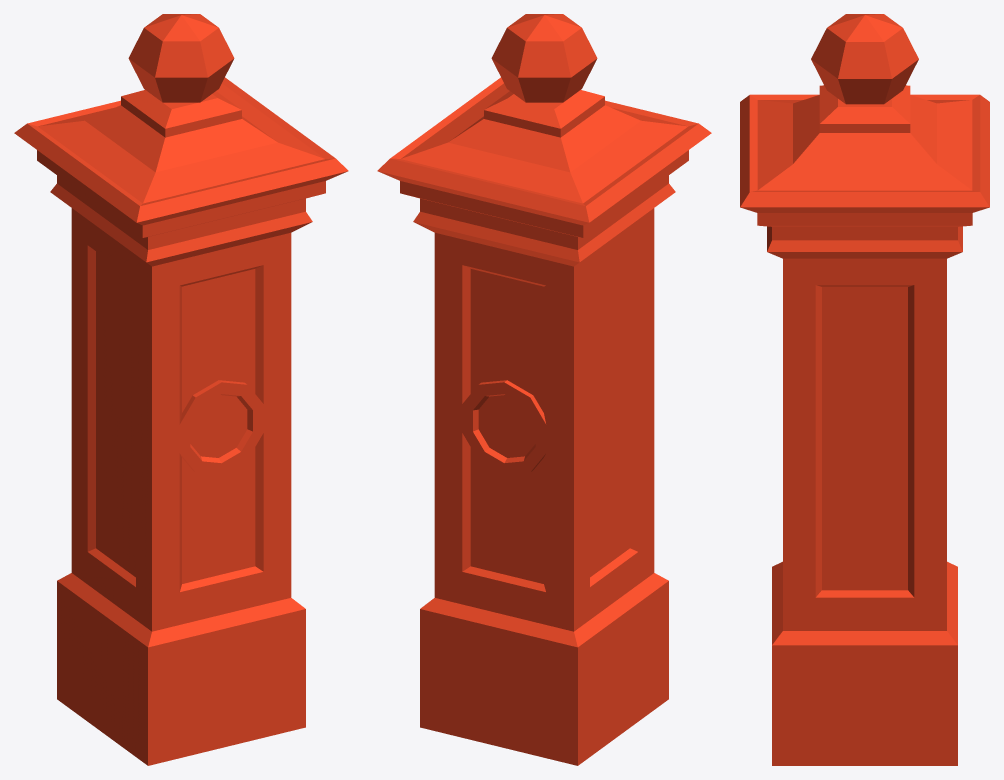
File: SM_Fence_Ornamental_Pillar_City.fbx
The picture shows the model from 3 angles, left to right: view 1: azimuth 30°, elevation 25°; view 2: azimuth 150°, elevation 25°; view 3: azimuth 270°, elevation 25°; orthographic projection.
Parts seen in each view (by area): view 1: SM_Fence_Ornamental_Pillar_City; view 2: SM_Fence_Ornamental_Pillar_City; view 3: SM_Fence_Ornamental_Pillar_City.
Boxes of the visible parts, x1,y1,x2,y2 form: SM_Fence_Ornamental_Pillar_City: [14, 14, 348, 765]; SM_Fence_Ornamental_Pillar_City: [377, 14, 711, 765]; SM_Fence_Ornamental_Pillar_City: [740, 14, 989, 765].
Size of the model in its own units: 0.593 by 1.86 by 0.5931.
